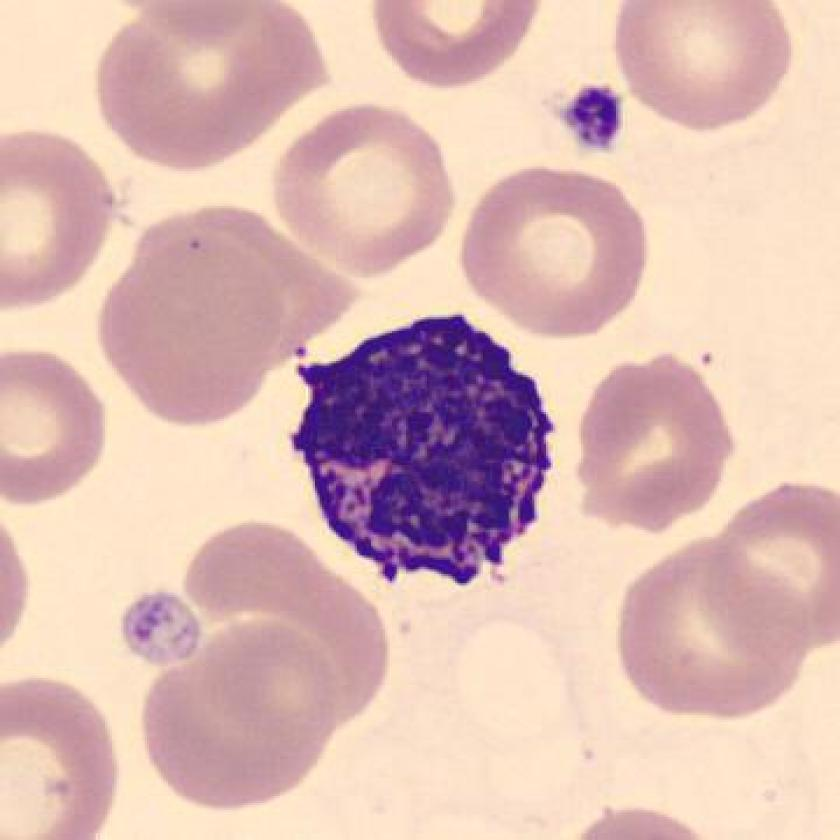basophil: (281, 304, 584, 598)
